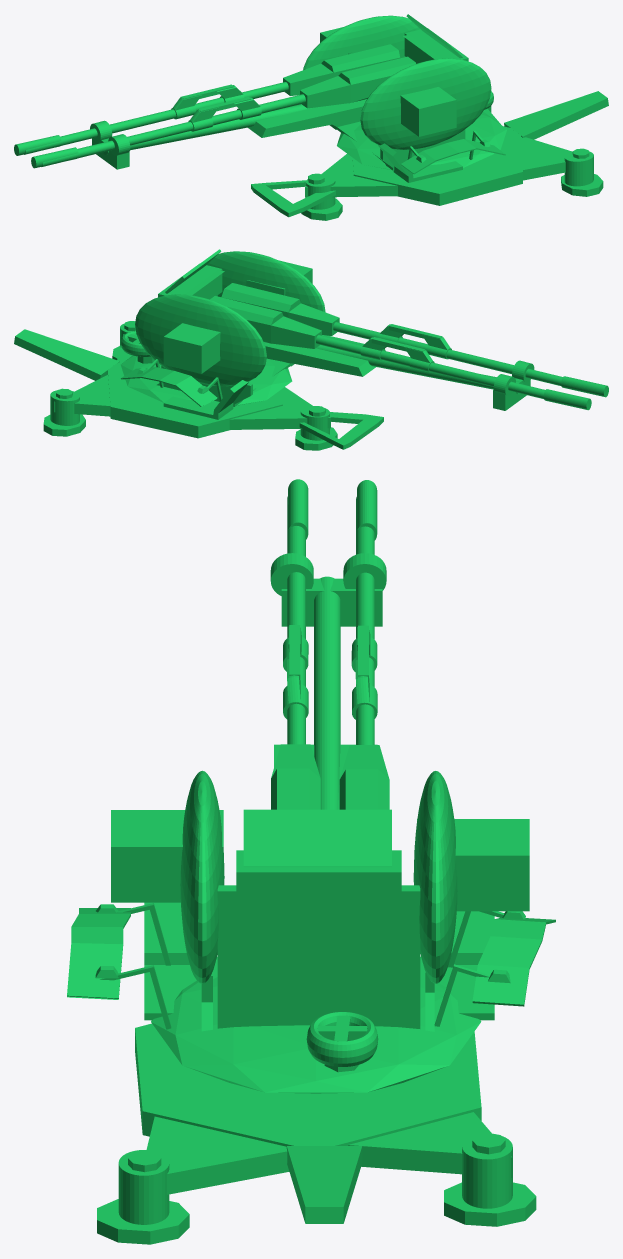
3 views of the same model, one above another, from view 1: azimuth 30°, elevation 25°; view 2: azimuth 150°, elevation 25°; view 3: azimuth 270°, elevation 25° (orthographic). The views are drawn at different scales.
Visible parts, largest first — view 1: Cube.000, Cylinder.002, leftBarrel, rightBarrel, holder; view 2: Cube.000, Cylinder.002, rightBarrel, leftBarrel, holder; view 3: Cube.000, Cylinder.002, holder, rightBarrel, leftBarrel.
Part boxes in pixels (x1,y1,x2,y2): Cube.000: (303, 14, 507, 182); Cylinder.002: (251, 91, 608, 220); leftBarrel: (31, 56, 415, 168); rightBarrel: (14, 44, 400, 155); holder: (90, 99, 366, 169); Cube.000: (120, 249, 325, 419); Cylinder.002: (14, 321, 383, 450); rightBarrel: (210, 296, 591, 410); leftBarrel: (221, 283, 608, 397); holder: (263, 335, 534, 410); Cube.000: (67, 770, 555, 1093); Cylinder.002: (97, 1012, 536, 1244); holder: (270, 553, 386, 809); rightBarrel: (339, 480, 389, 809); leftBarrel: (271, 479, 320, 809).
Bounding box in the file's own units: 880 × 225 × 323.
